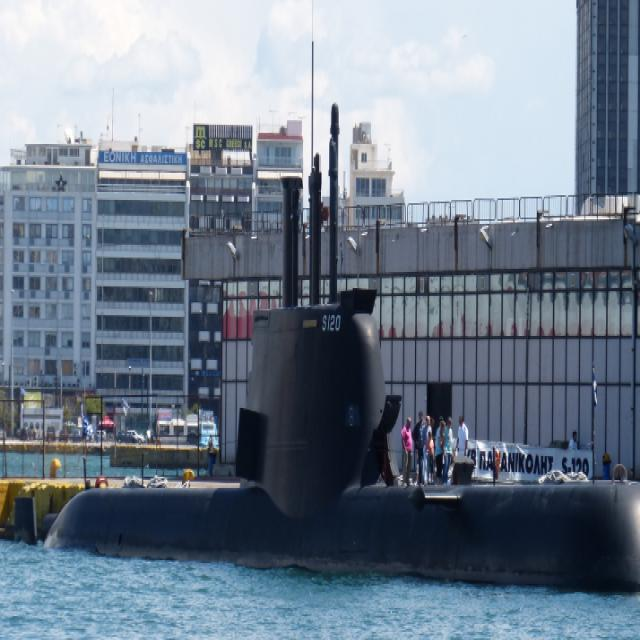submarine: (21, 100, 640, 605)
